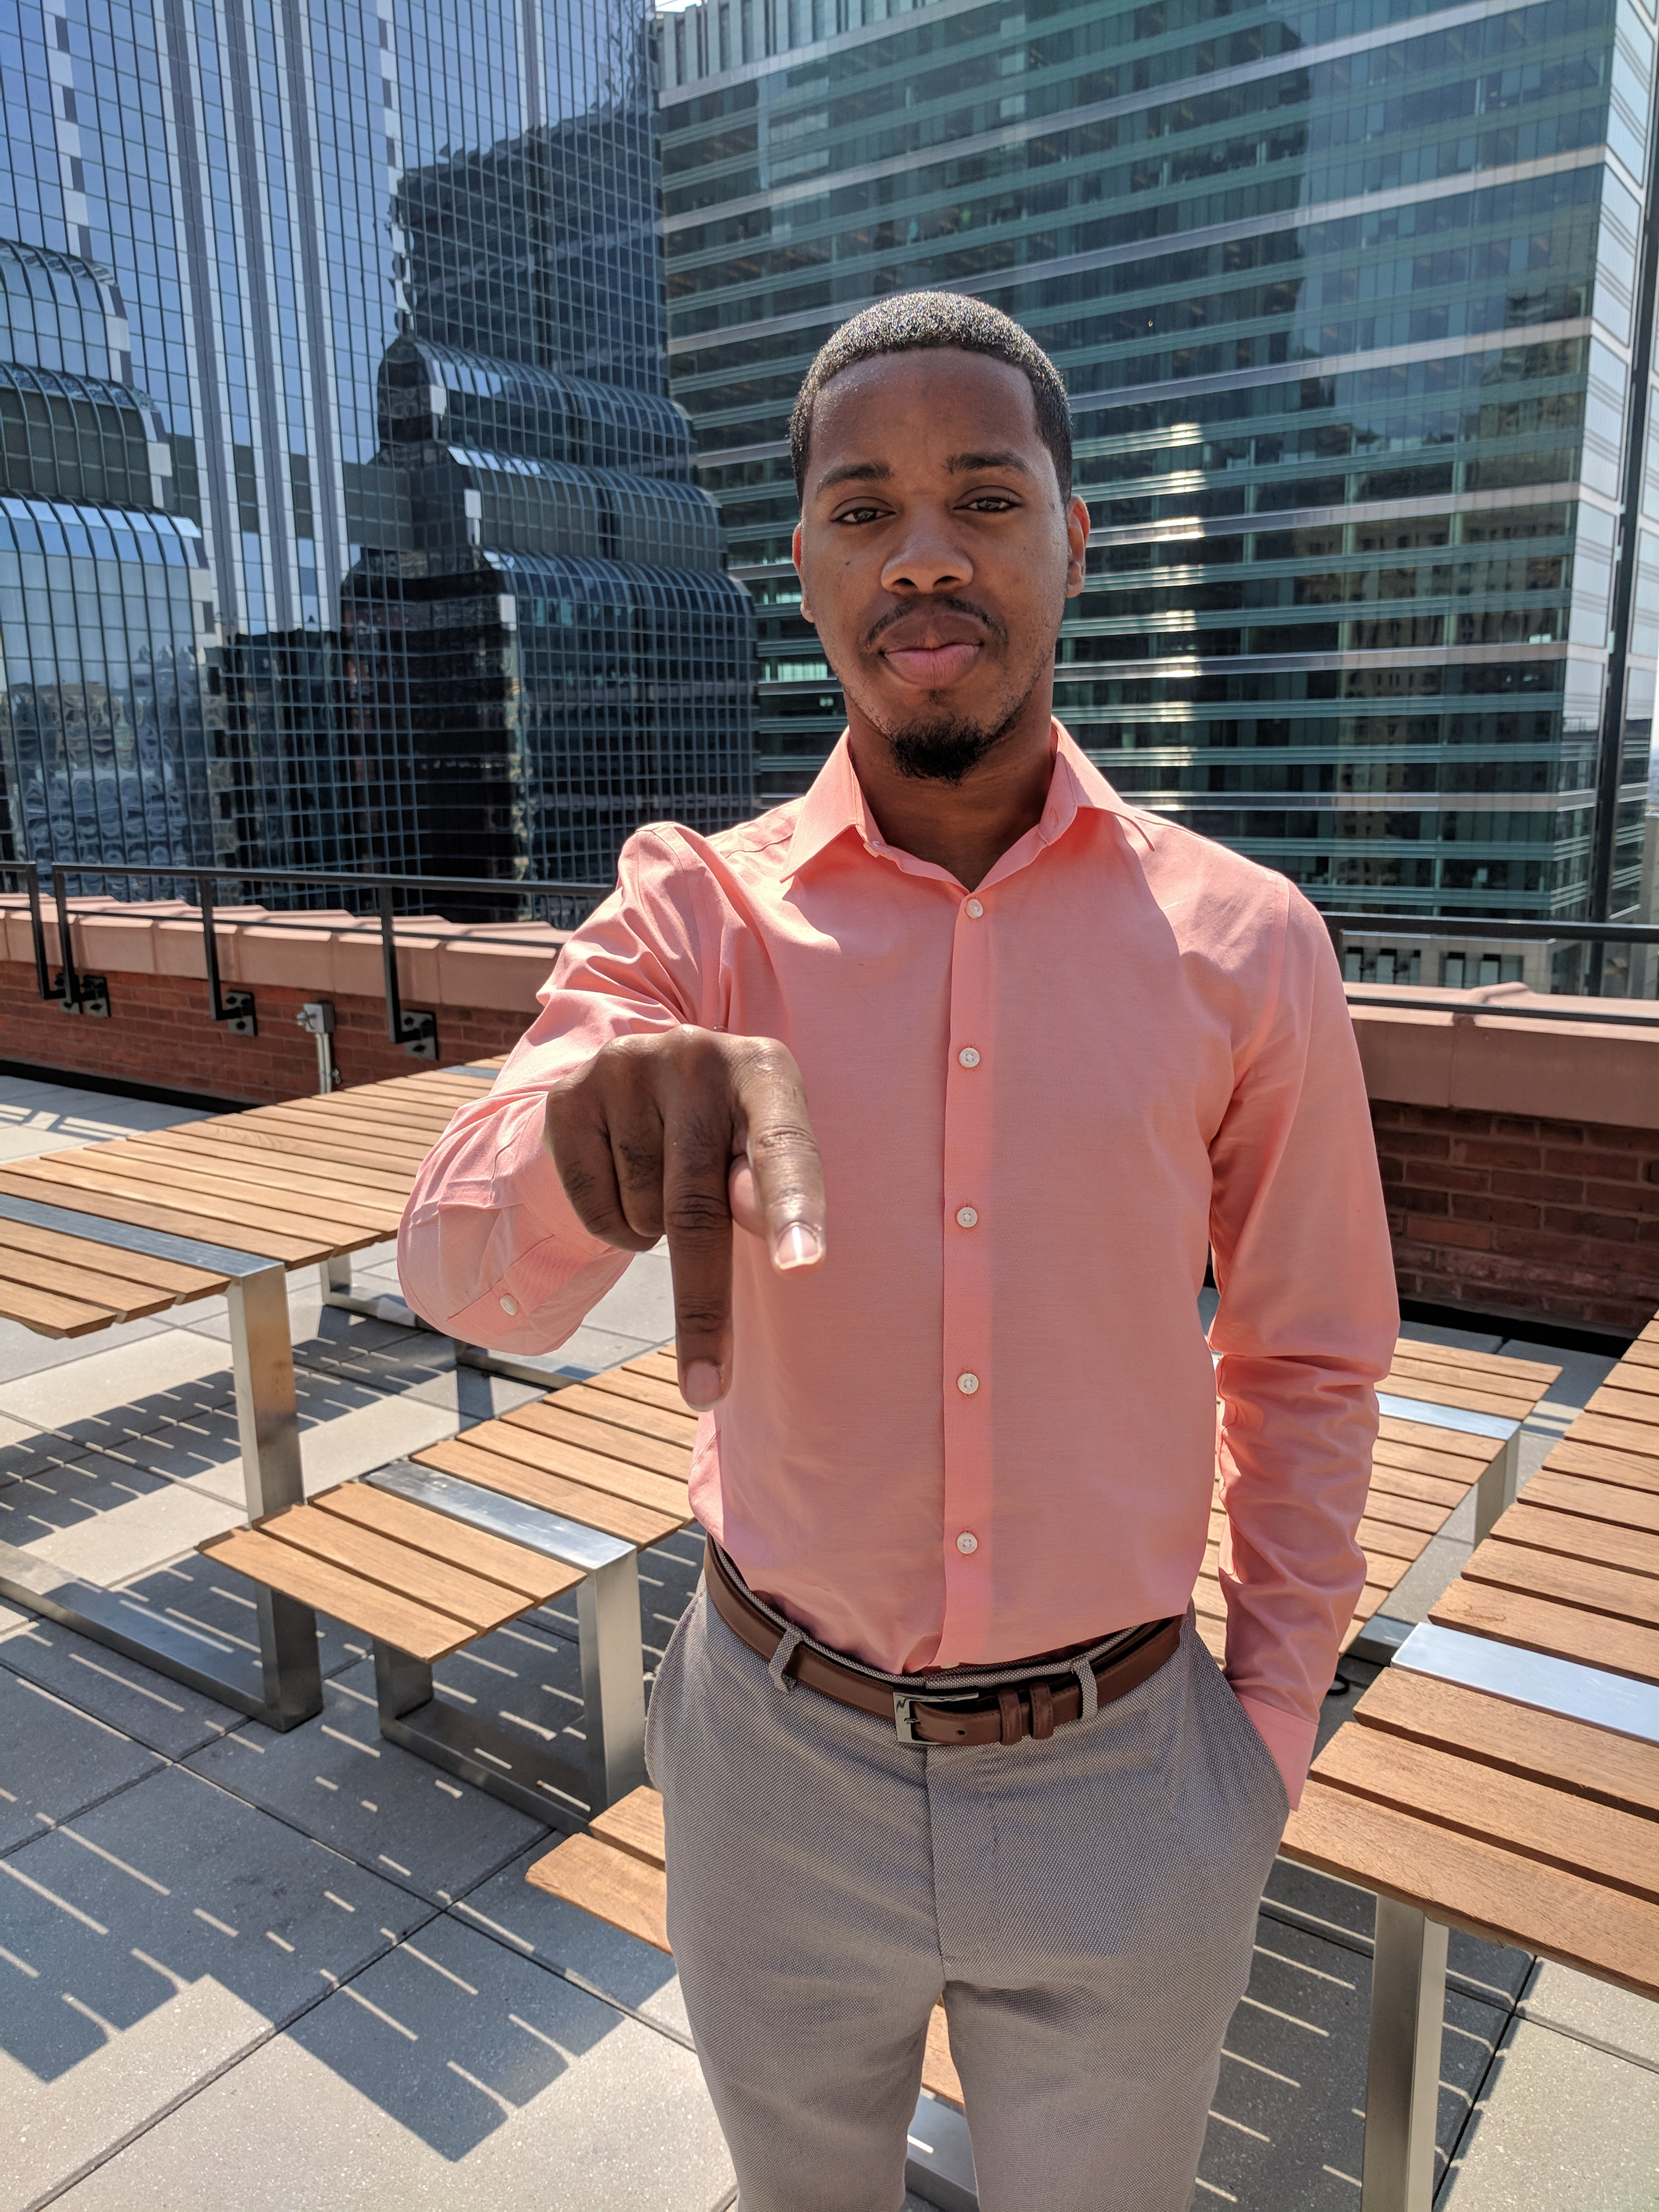p: (547, 1026, 856, 1425)
